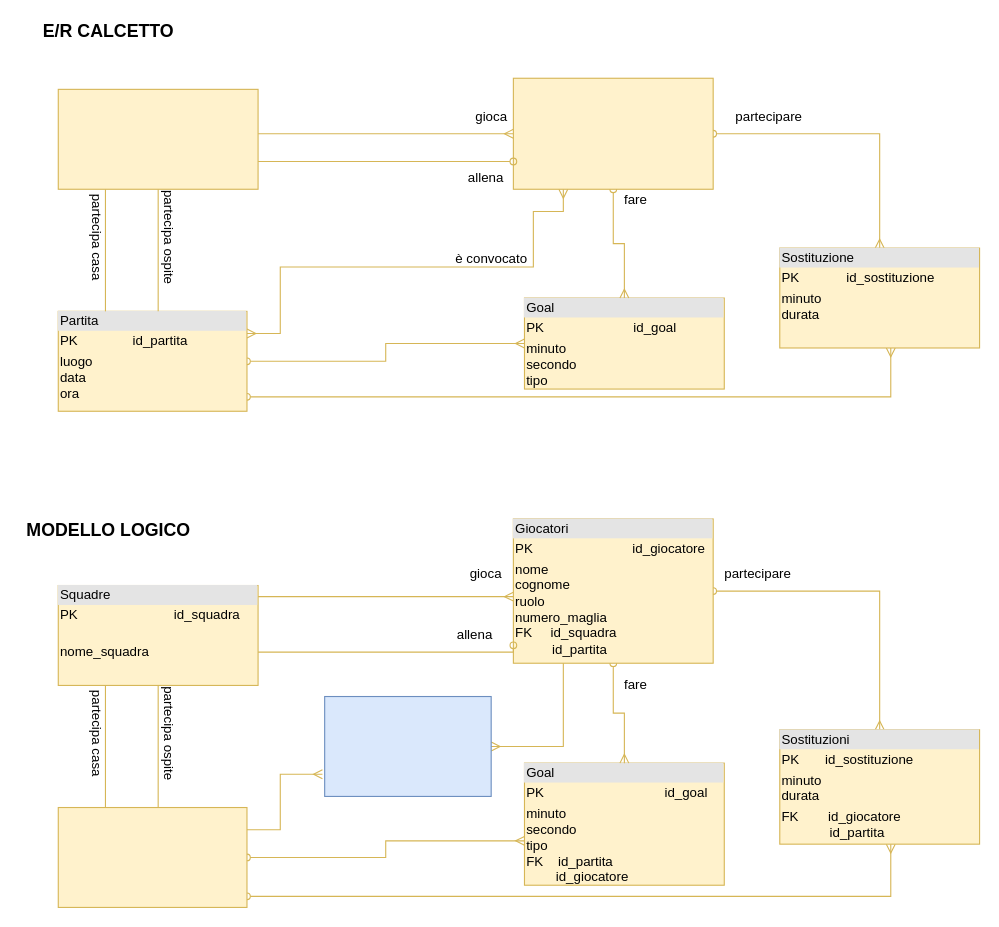
Image size: 999x927. Some labels were removed from this diagram. The centre of each missing label's shape, as x and y in pixels:
Giocatore PK id_giocatore nome cognome ruolo numero_maglia: [612,133]
Partite PK id_partita luogo data ora: [152,856]
PK FK id_giocatore id_partita: [407,745]
Squadra PK id_squadra nome_squadra: [157,138]
